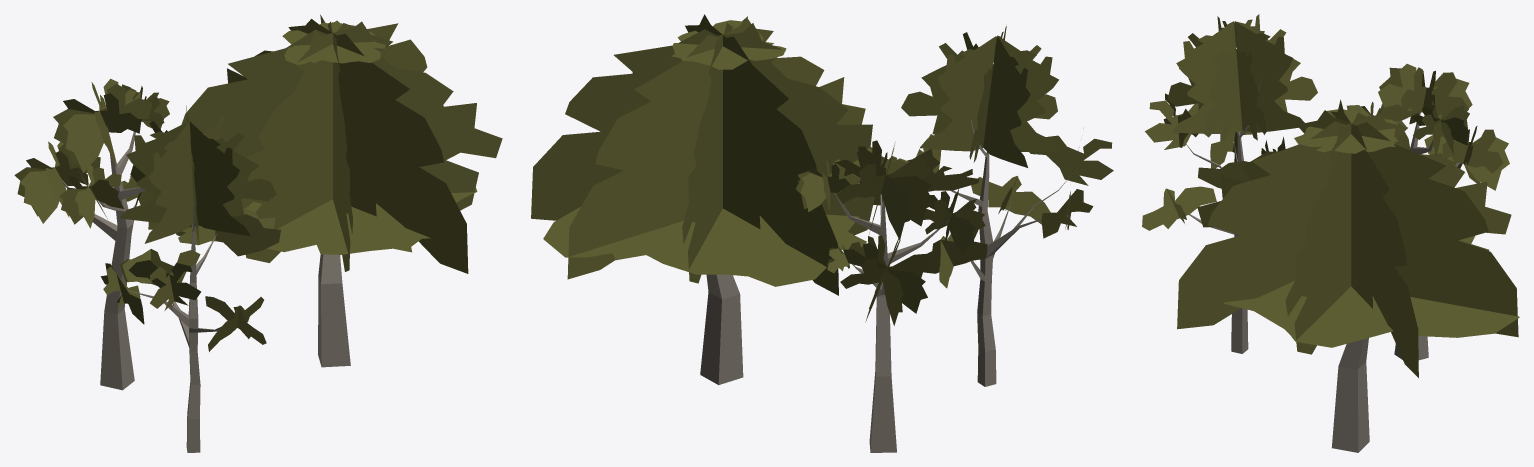
The model's file is Tree11.fbx.
3 views of the same model, side by side, from view 1: azimuth 30°, elevation 25°; view 2: azimuth 150°, elevation 25°; view 3: azimuth 270°, elevation 25° (orthographic). The views are drawn at different scales.
Visible parts, largest first — view 1: Flat_half_tree.011; view 2: Flat_half_tree.011; view 3: Flat_half_tree.011.
Part boxes in pixels (x1,y1,x2,y2): Flat_half_tree.011: (14, 14, 502, 452); Flat_half_tree.011: (531, 14, 1113, 452); Flat_half_tree.011: (1142, 14, 1519, 452).
Bounding box in the file's own units: 4.98 × 3.67 × 3.76.
